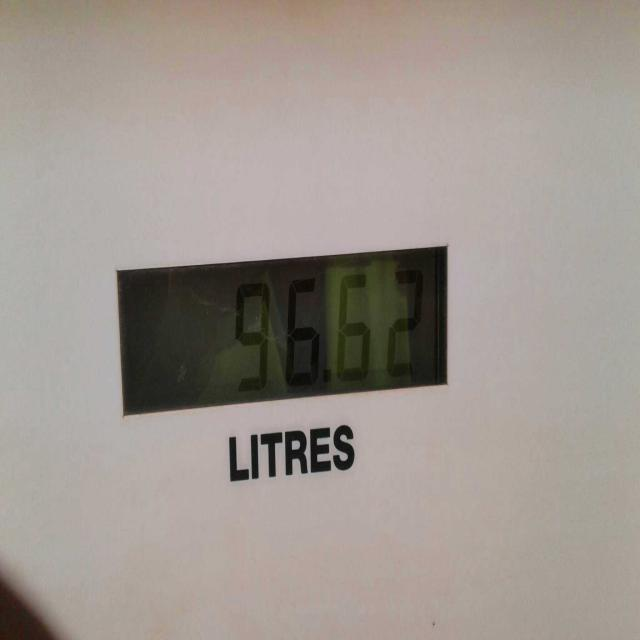.: (318, 360, 337, 394)
2: (383, 264, 432, 378)
6: (333, 260, 378, 384), (284, 277, 322, 398)
9: (227, 274, 277, 394)
